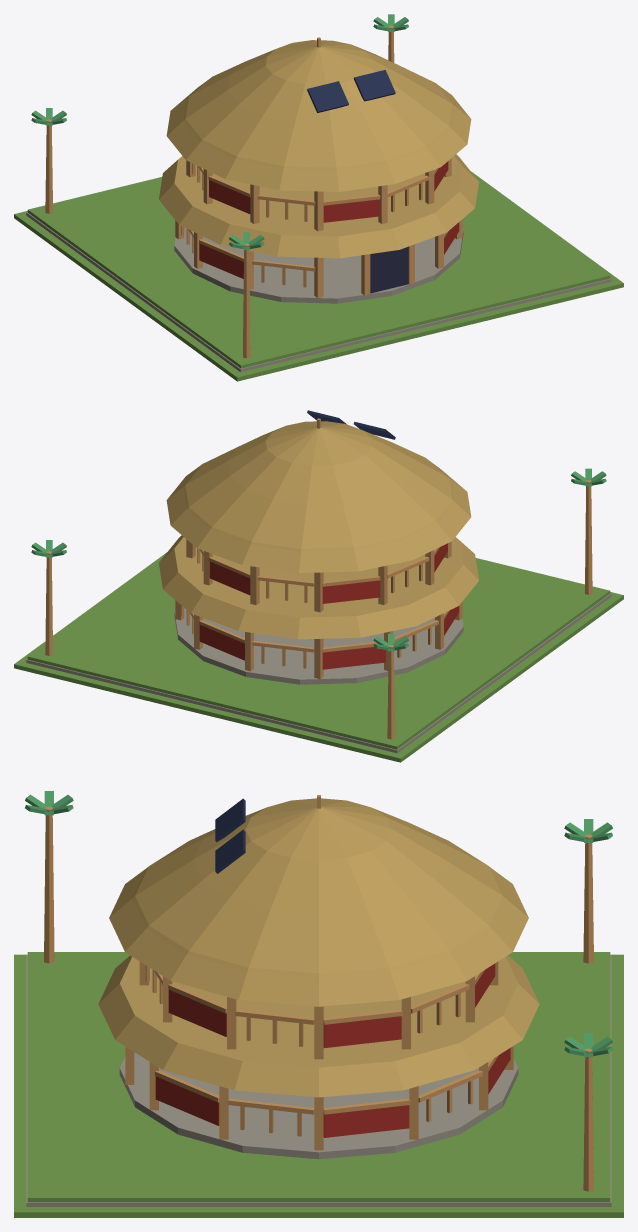
File: house-2x2-2f-fale-a-solar.glb
3 renders of one model, top to bottom at view 1: azimuth 30°, elevation 25°; view 2: azimuth 150°, elevation 25°; view 3: azimuth 270°, elevation 25°, orthographic. The views are drawn at different scales.
Visible parts, largest first — view 1: house-2x2-2f-fale-a-solar; view 2: house-2x2-2f-fale-a-solar; view 3: house-2x2-2f-fale-a-solar.
Part boxes in pixels (left/top/right/bottom): house-2x2-2f-fale-a-solar: left=14, top=14, right=623, bottom=381; house-2x2-2f-fale-a-solar: left=14, top=410, right=623, bottom=762; house-2x2-2f-fale-a-solar: left=14, top=791, right=623, bottom=1217.
Size of the model in its own units: 1.99 by 1.05 by 1.99.
1 material, 1 textured.
